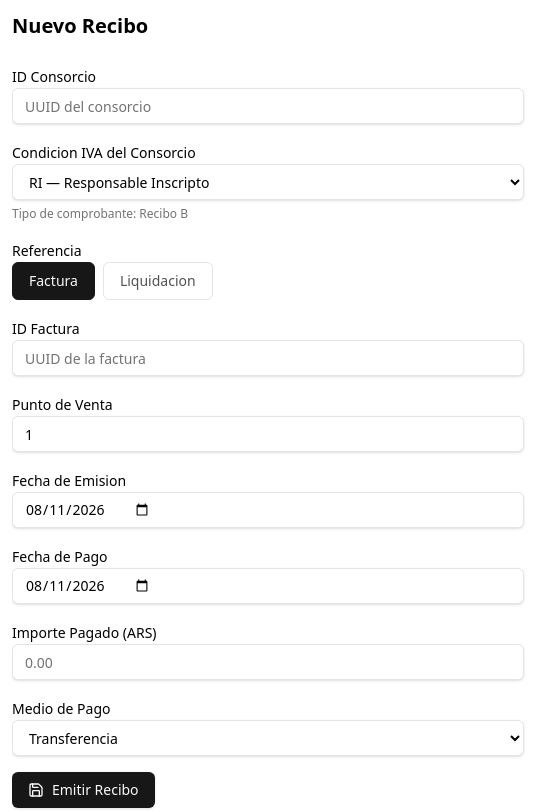
Test case: ReciboForm › [@display] auto-selects Recibo C for EXENTO consorcio
This screenshot has width=541, height=812.
Select "EXENTO — Exento" in the dropdown labelled "Condicion IVA del Consorcio". click: point(268, 182)
box: [12,164,524,200]
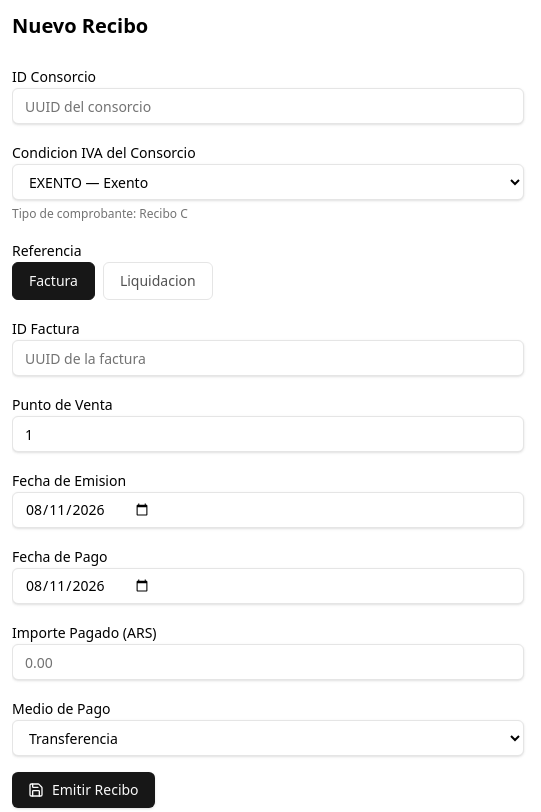
Check: the text "Recibo C" is shown, box [139,205,188,222]
Check: the text "Recibo B" is gone
